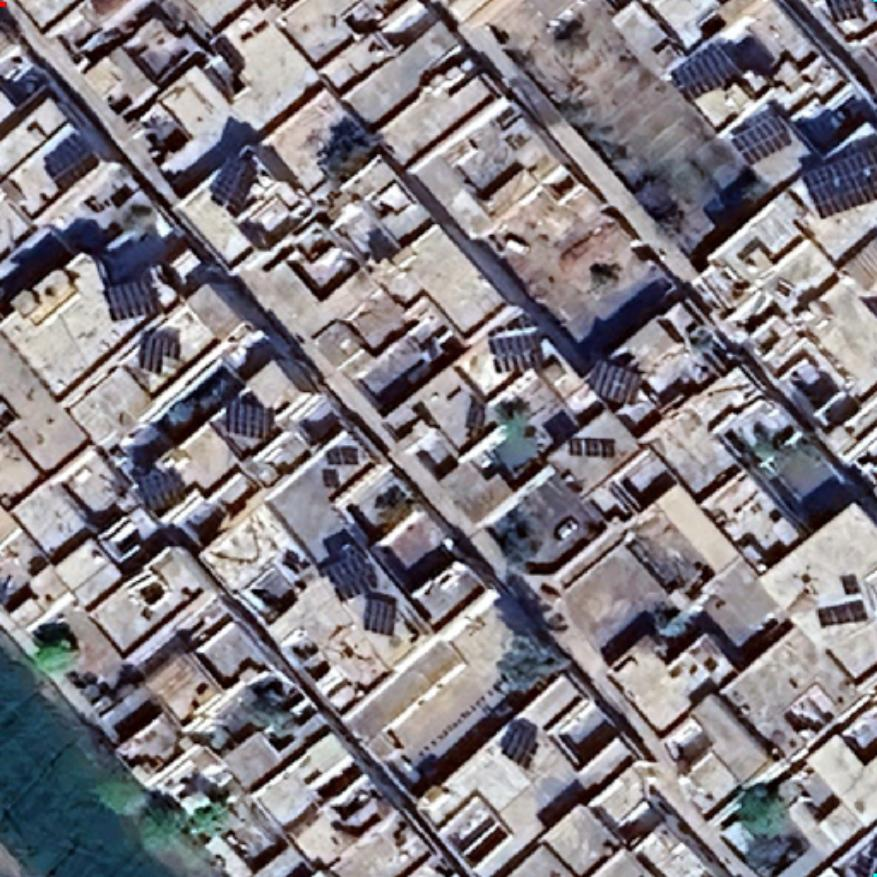Solarpanel: (798, 130, 877, 222), (666, 38, 744, 105), (726, 104, 796, 168), (42, 128, 102, 194), (208, 148, 262, 218), (320, 542, 382, 602), (102, 274, 162, 324), (133, 467, 188, 515), (498, 716, 542, 770), (223, 397, 275, 441), (136, 328, 182, 376), (360, 592, 401, 639), (816, 597, 870, 629), (564, 434, 618, 459), (824, 0, 870, 24), (324, 443, 360, 467), (840, 572, 862, 596), (320, 467, 340, 488)
